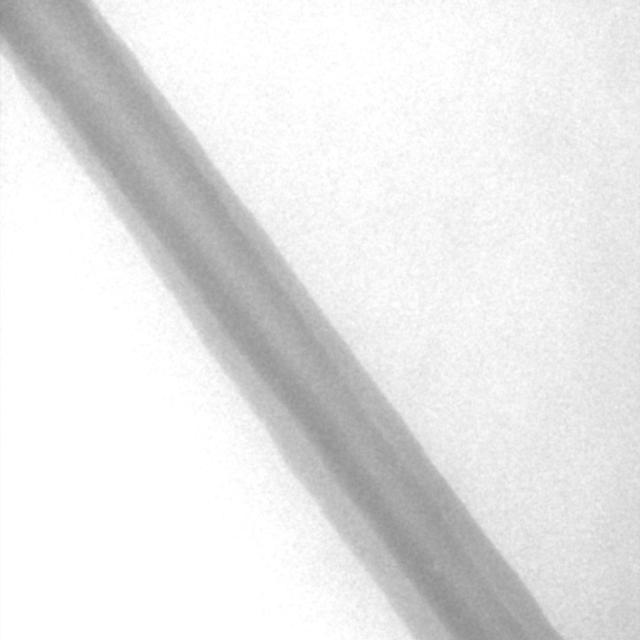air-hole: (434, 560, 444, 577)
